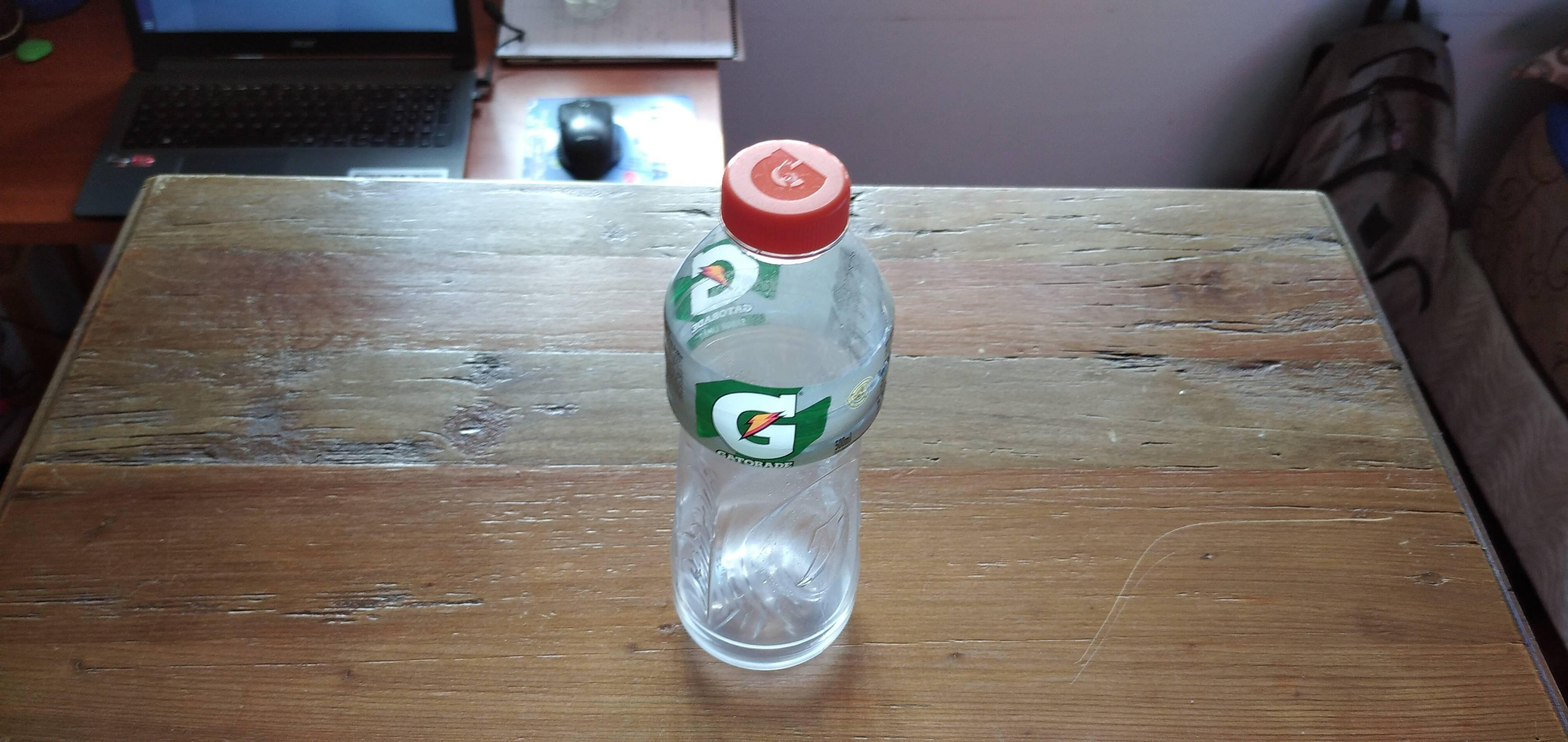bottle-plastic: (665, 140, 890, 671)
